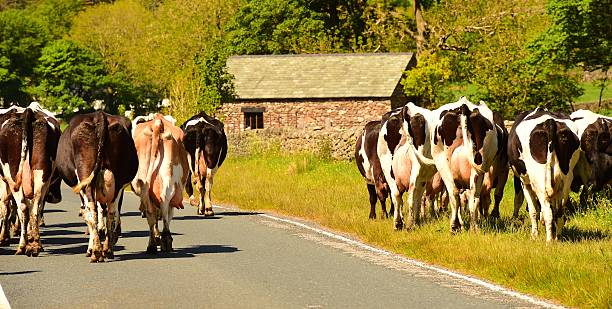inek: (356, 98, 439, 238), (0, 100, 67, 261), (60, 100, 125, 256), (508, 108, 575, 248), (122, 117, 186, 258), (431, 96, 488, 241), (566, 106, 611, 242), (185, 110, 226, 224)
